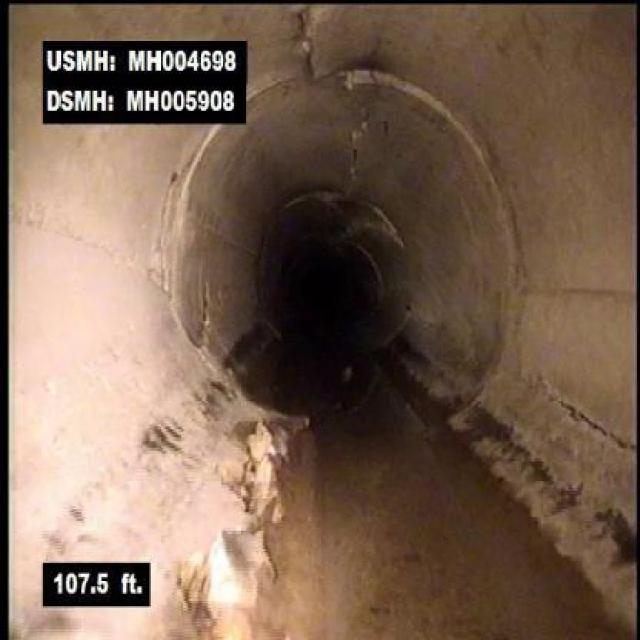Buckling: (197, 417, 292, 634)
Crack: (538, 374, 638, 457), (294, 6, 335, 76)
